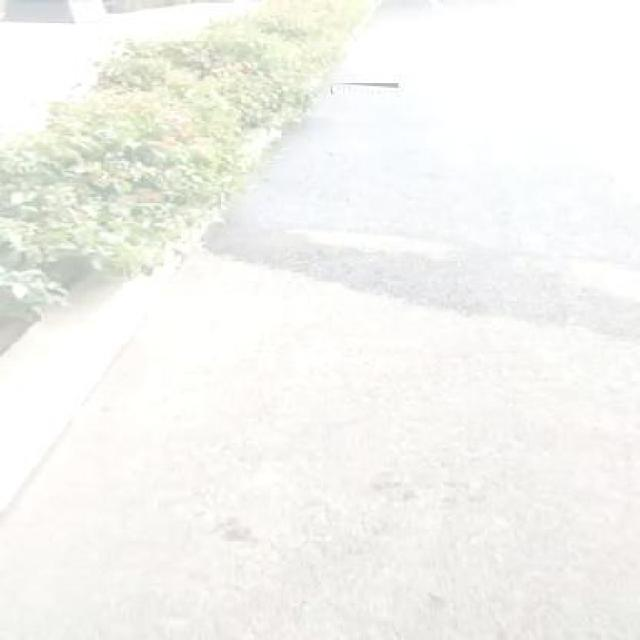Manhole: (331, 83, 398, 94)
